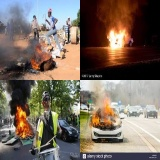fire: (89, 97, 115, 127), (13, 105, 34, 138), (29, 40, 51, 70), (107, 27, 128, 49)
